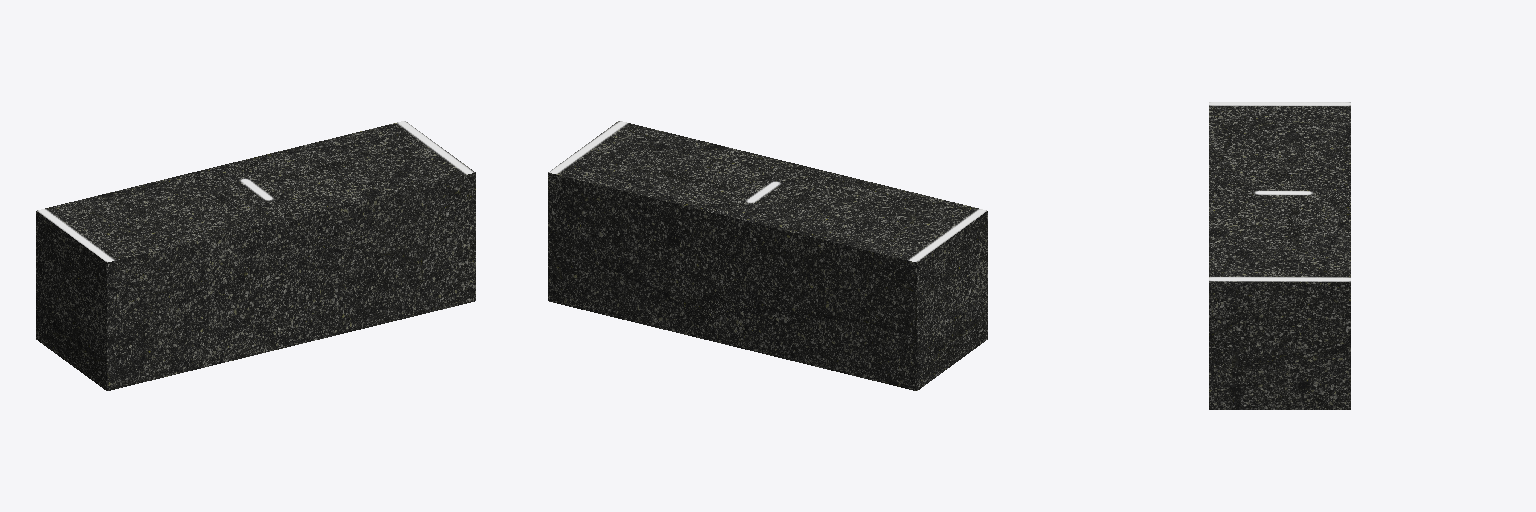
3 renders of one model, left to right at view 1: azimuth 30°, elevation 25°; view 2: azimuth 150°, elevation 25°; view 3: azimuth 270°, elevation 25°, orthographic.
Parts seen in each view (by area): view 1: Cube; view 2: Cube; view 3: Cube.
Boxes of the visible parts, x1=… form: Cube: x1=36, y1=121, x2=475, y2=390; Cube: x1=548, y1=121, x2=987, y2=390; Cube: x1=1209, y1=102, x2=1350, y2=409.
Size of the model in its own units: 6 by 2 by 2.
Materials: 1 (1 with a texture image).